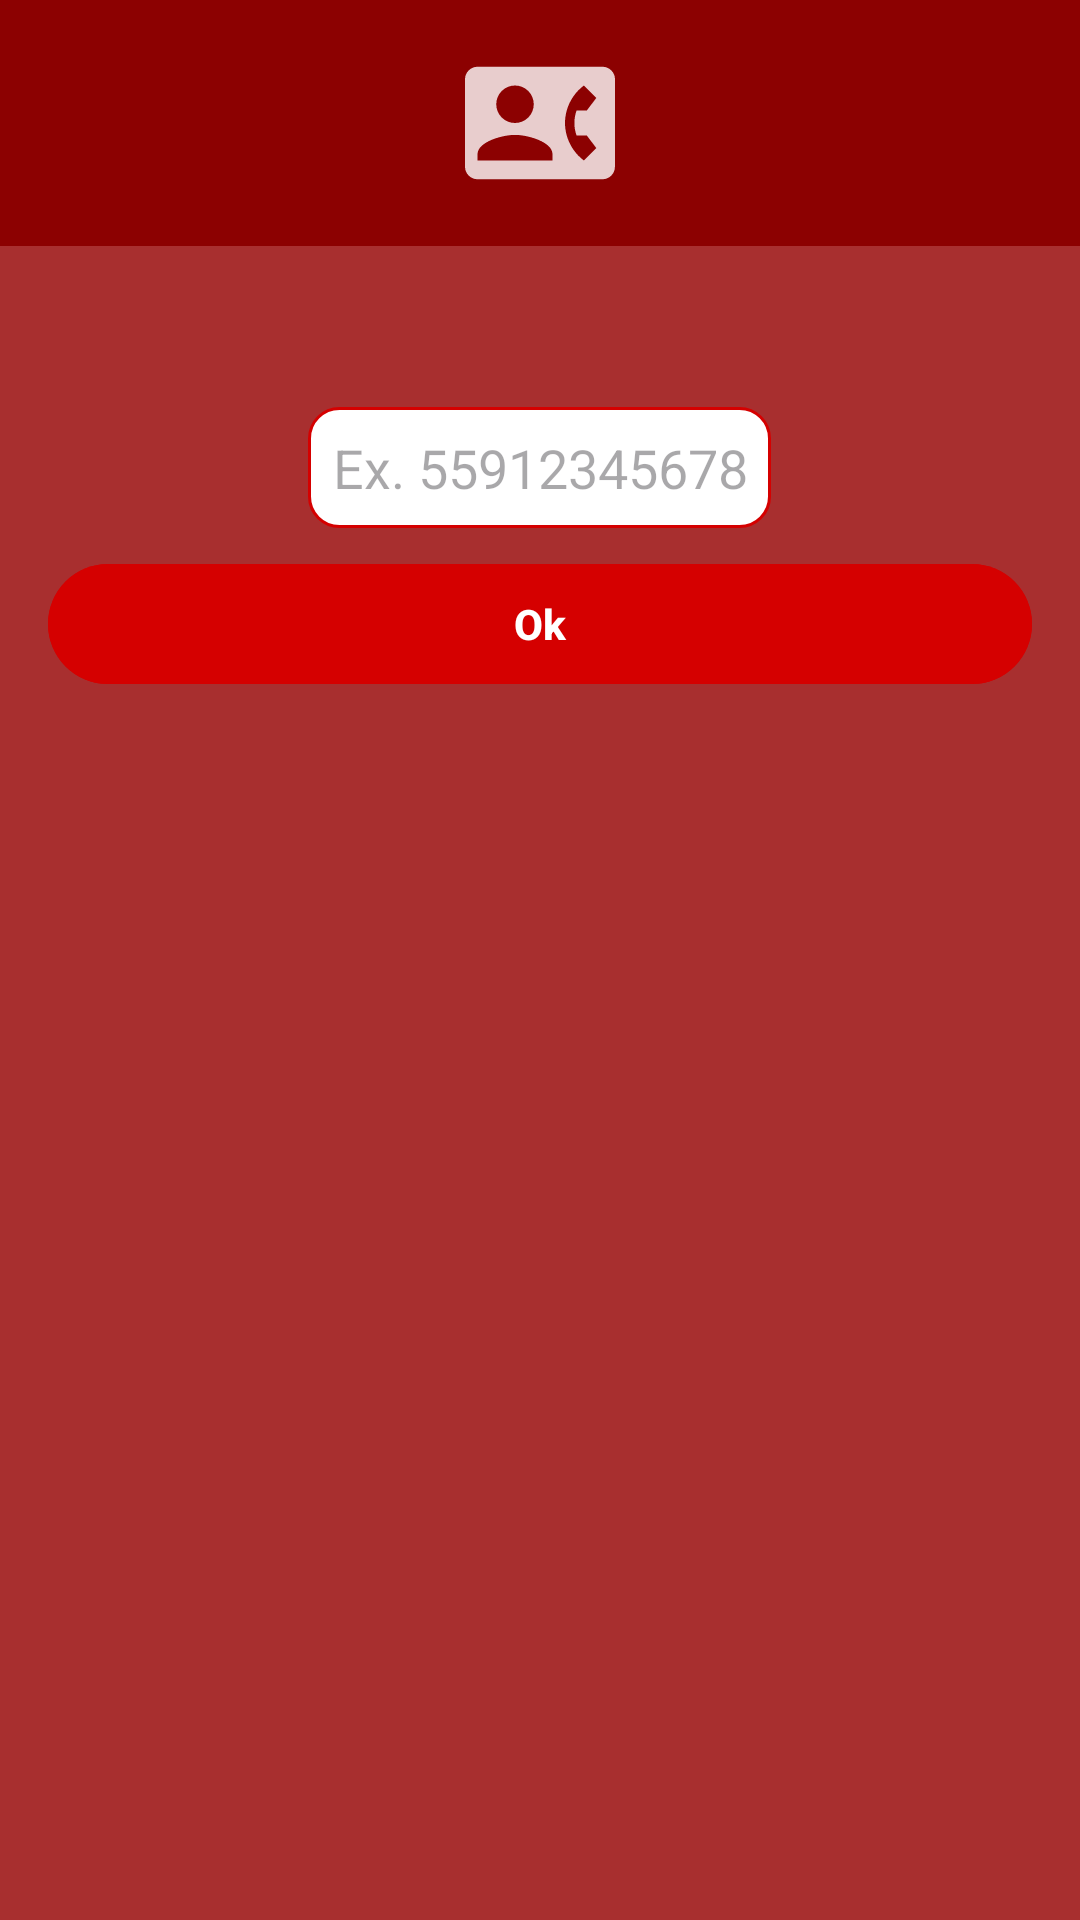

Where icons sit on this 1080 × 1920 app screen, as (x1, y1, x2, y2):
phone: (465, 66, 615, 180)
